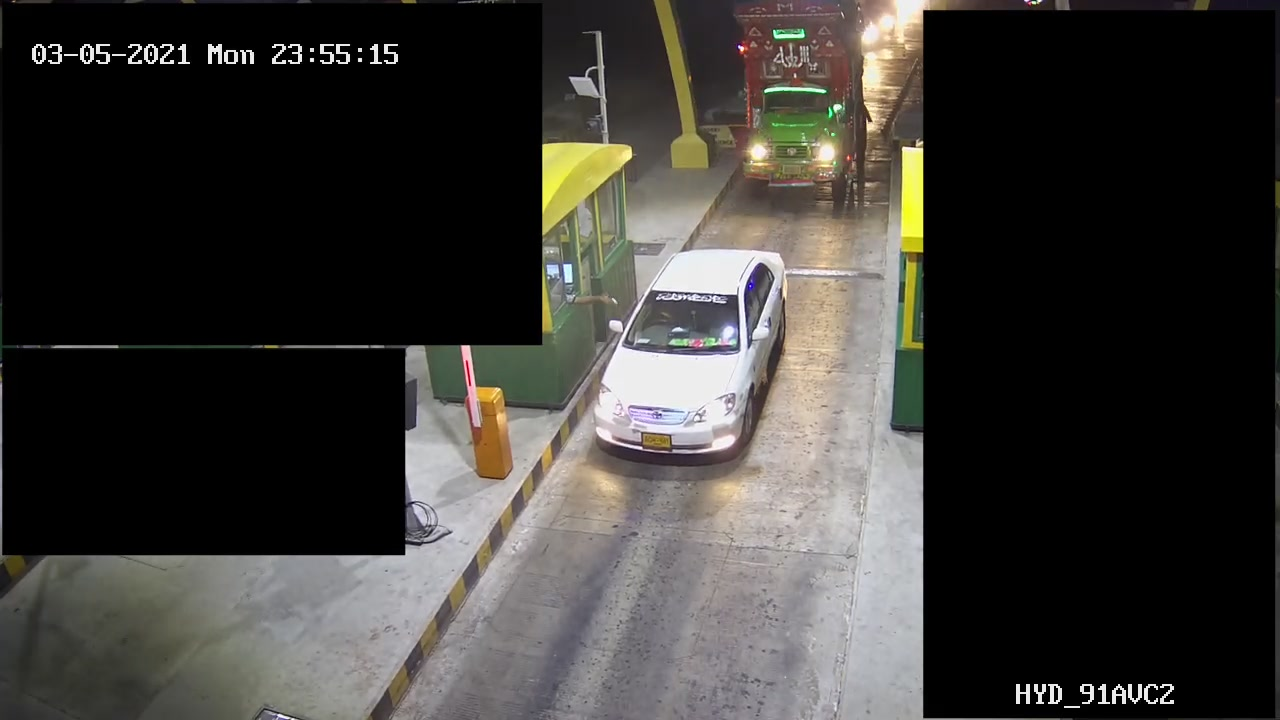F1: (587, 244, 798, 477)
